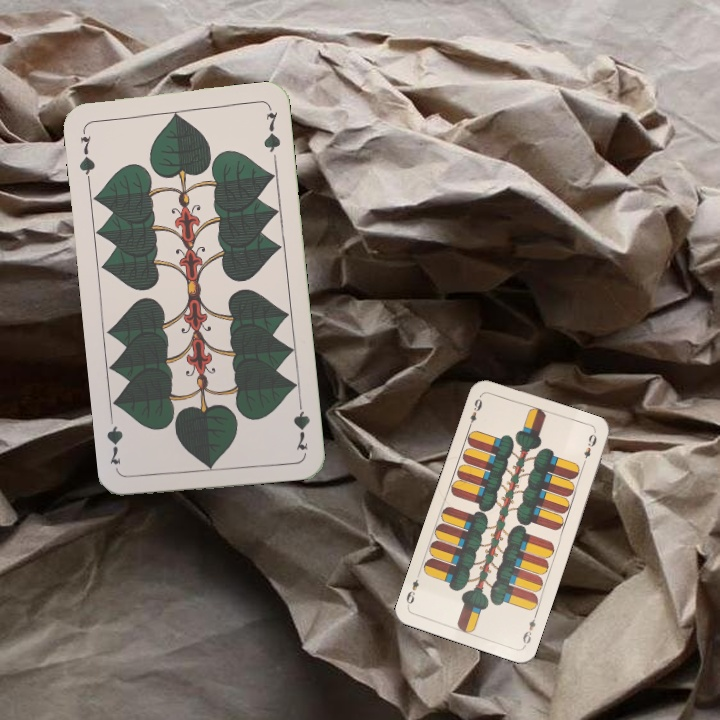E9: (519, 609, 540, 649), (464, 391, 485, 431)
G7: (75, 124, 98, 184), (289, 394, 312, 453)
